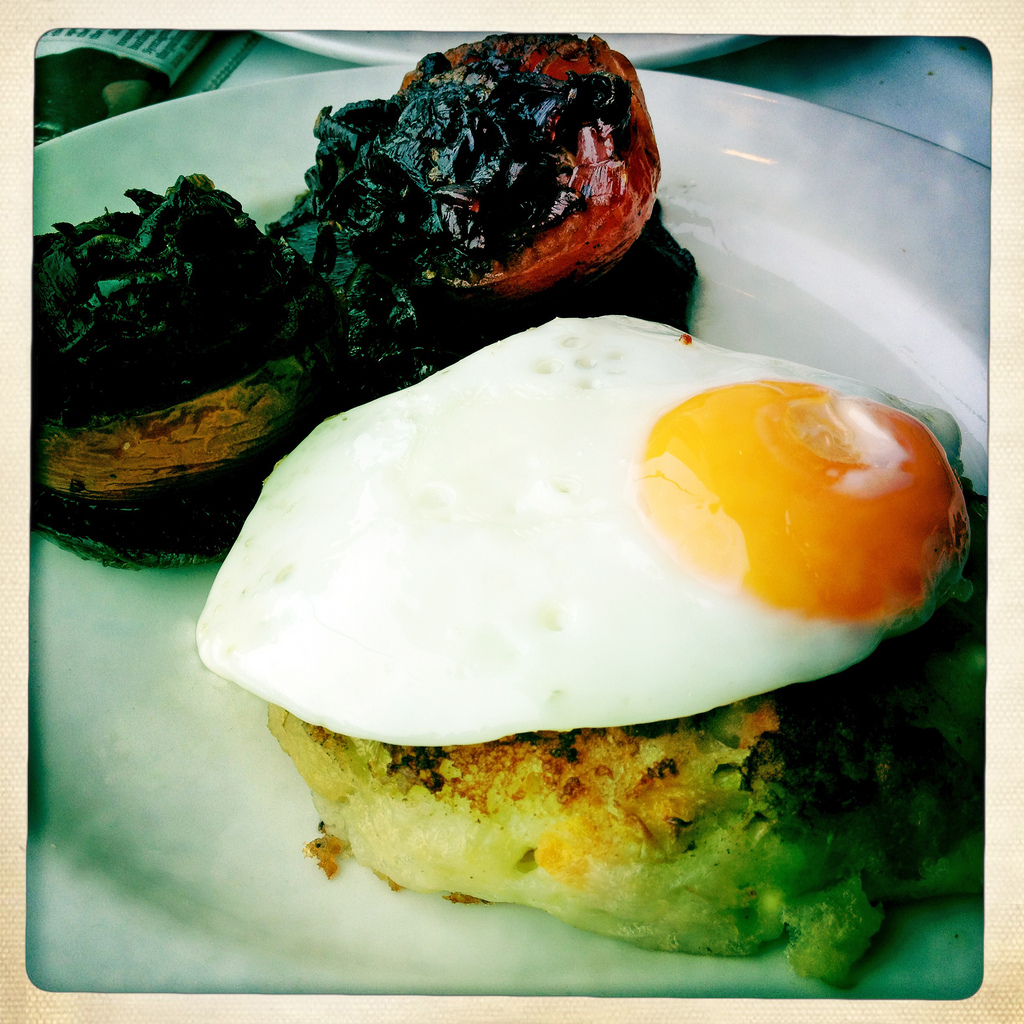fried egg: (194, 344, 947, 736)
